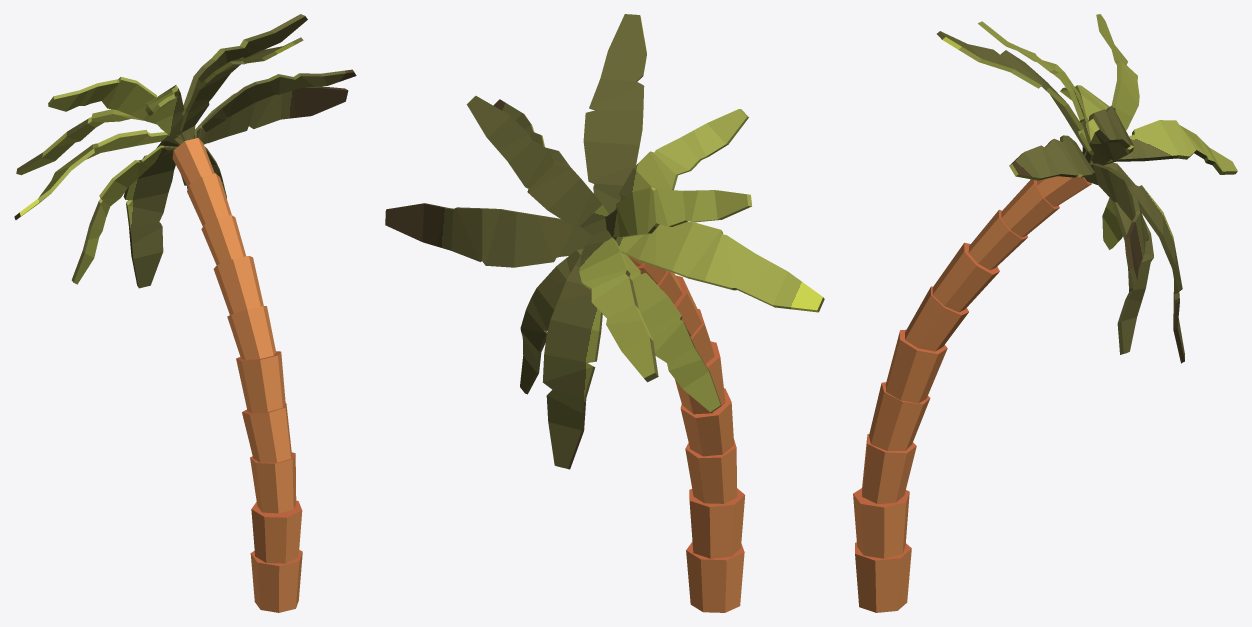
The model's file is Palm Tree 2.fbx.
3 renders of one model, left to right at view 1: azimuth 30°, elevation 25°; view 2: azimuth 150°, elevation 25°; view 3: azimuth 270°, elevation 25°, orthographic. The views are drawn at different scales.
Parts seen in each view (by area): view 1: Tree-2; view 2: Tree-2; view 3: Tree-2.
Boxes of the visible parts, x1,y1,x2,y2 form: Tree-2: (14, 14, 356, 612); Tree-2: (385, 14, 824, 612); Tree-2: (853, 14, 1237, 612).
Bounding box in the file's own units: 339 × 480 × 282.
